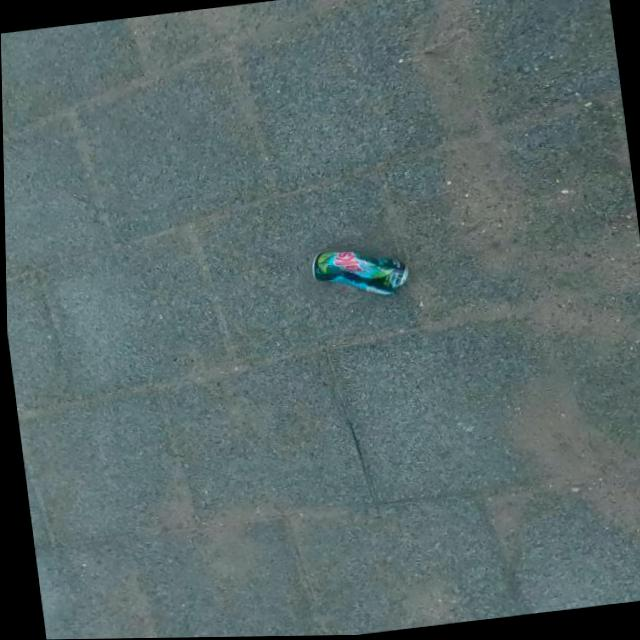Can-Metal: (305, 240, 415, 306)
